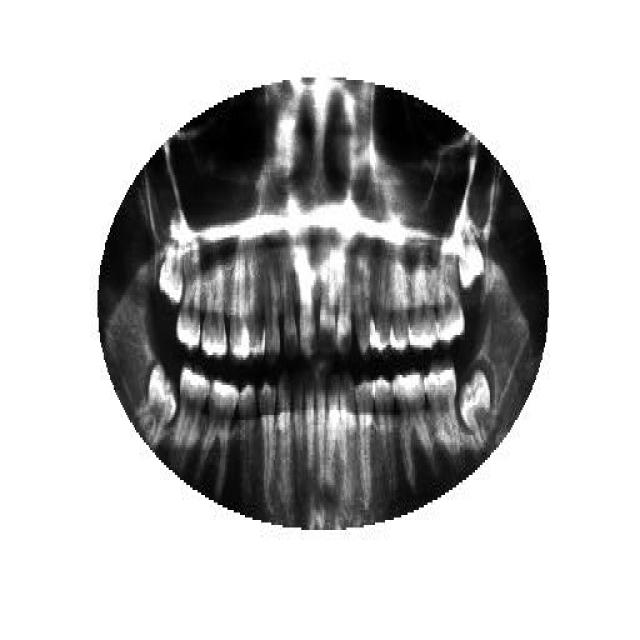Impacted Tooth: (135, 362, 180, 450), (455, 360, 496, 452)
